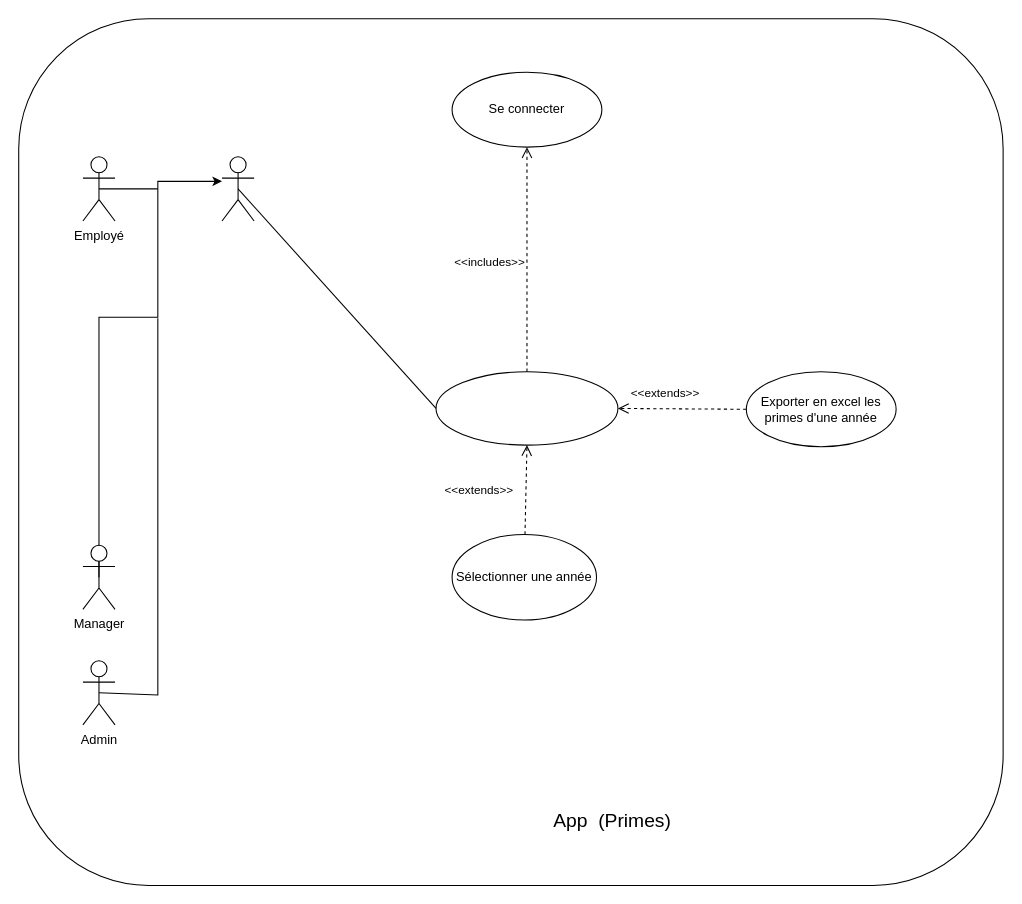
Some shapes in this 1022 by 904 pixel diagram are drawn without their labels. The shapes that lost their labels are listed below. From the top down, each one's centre as x and y in pixels, then its label:
At (x=237, y=188): "Collaborateur".
At (x=526, y=408): "Visualiser ses primes".
